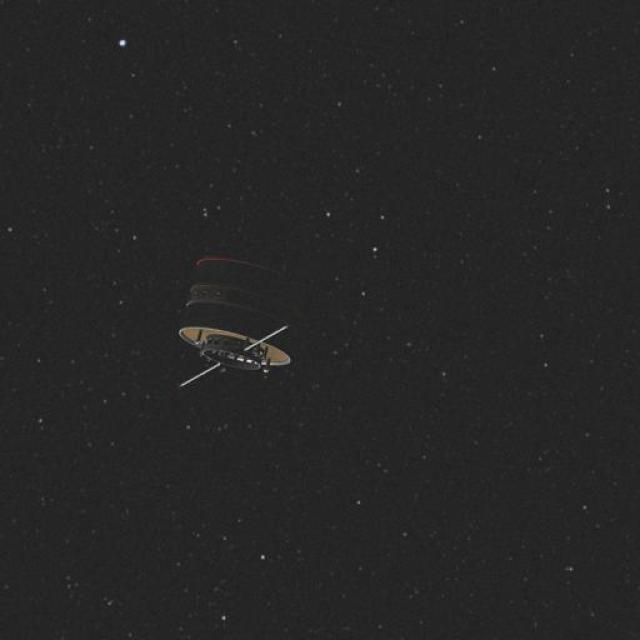double_start: (157, 230, 333, 403)
